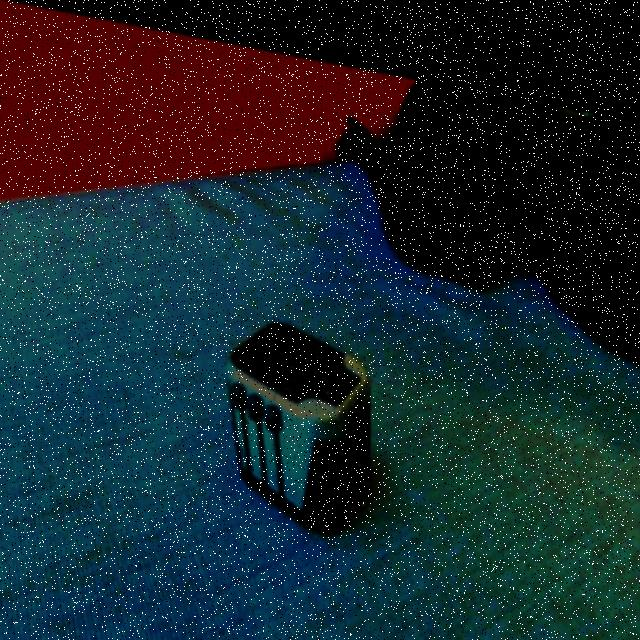adapter: (225, 299, 371, 526)
